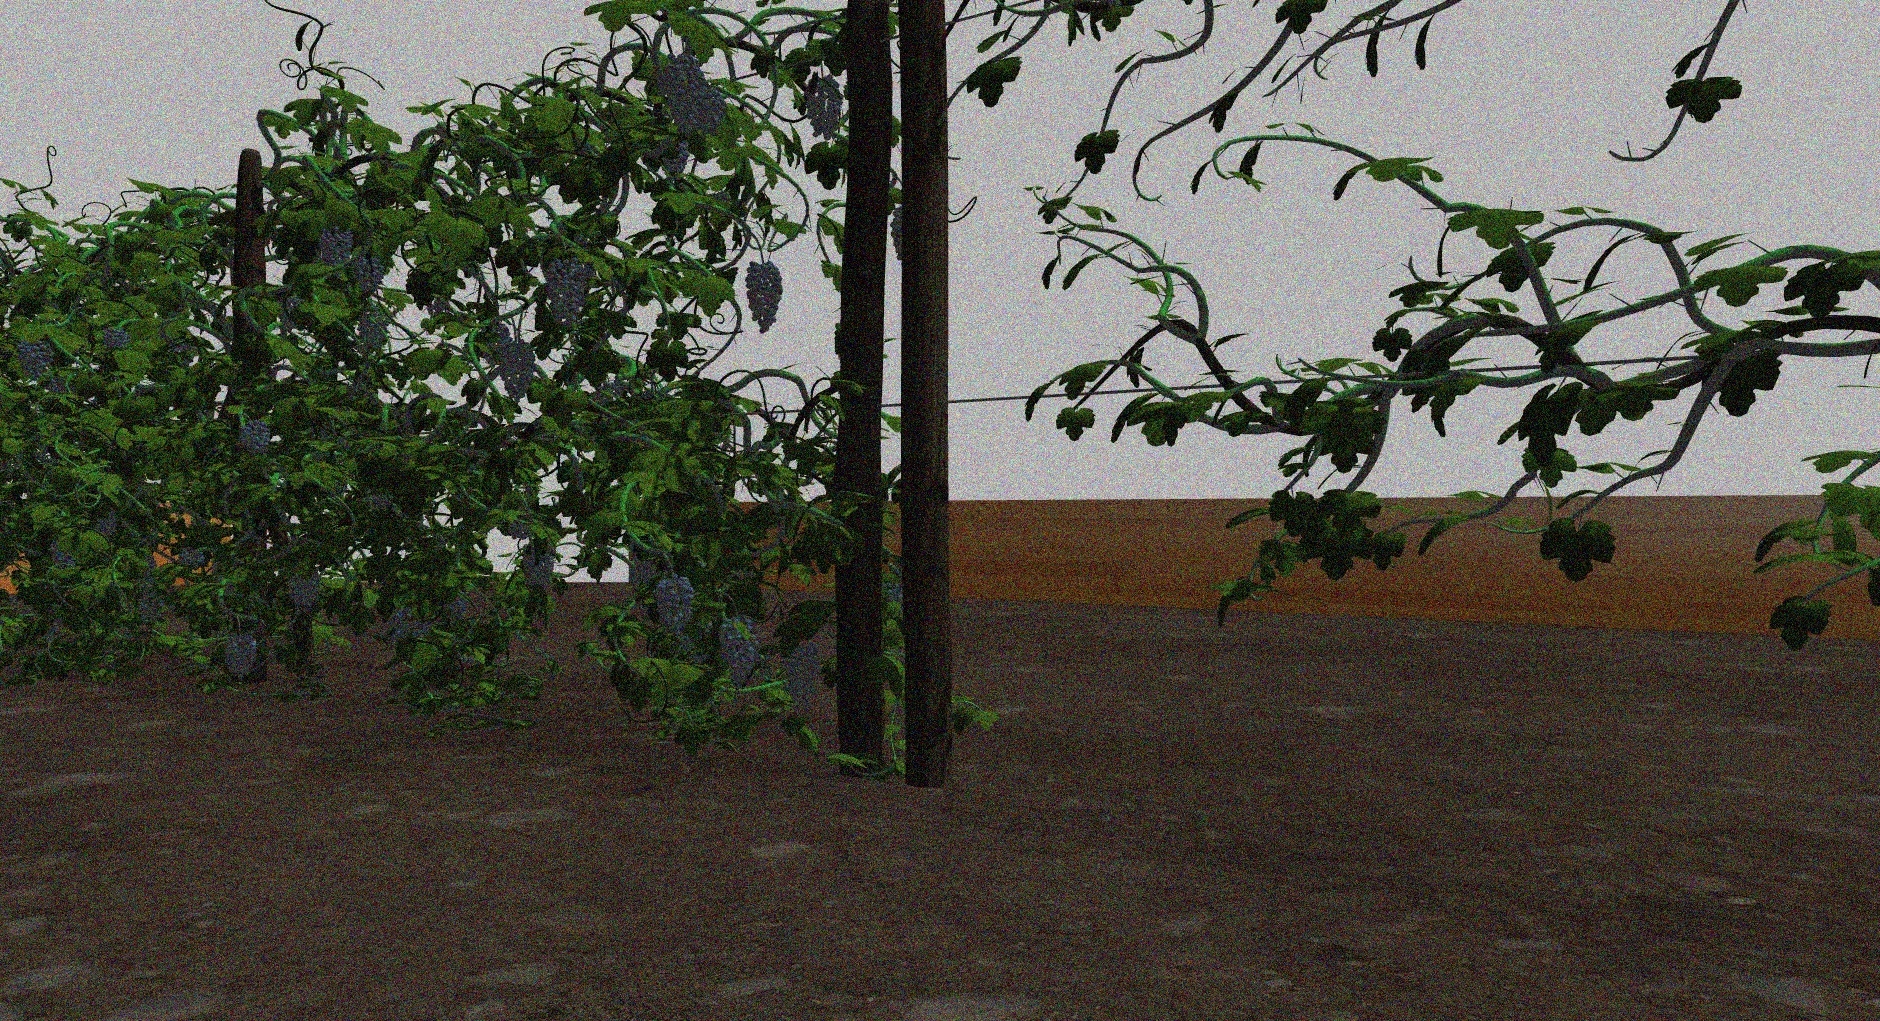grape: (662, 55, 705, 131), (718, 616, 760, 688), (783, 640, 821, 715), (803, 74, 844, 141), (547, 259, 586, 329), (746, 259, 782, 336), (653, 572, 694, 637), (496, 341, 537, 401), (287, 568, 324, 617), (385, 605, 424, 648), (221, 634, 258, 679), (522, 543, 555, 588), (318, 225, 352, 269), (16, 341, 54, 378), (696, 89, 728, 133), (352, 255, 385, 295), (238, 419, 271, 456), (357, 306, 386, 350), (662, 141, 689, 176), (138, 590, 165, 622), (102, 326, 131, 350), (180, 546, 205, 570)
